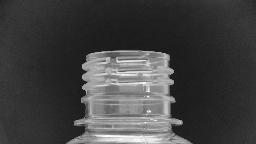No Cap: (70, 46, 186, 130)
